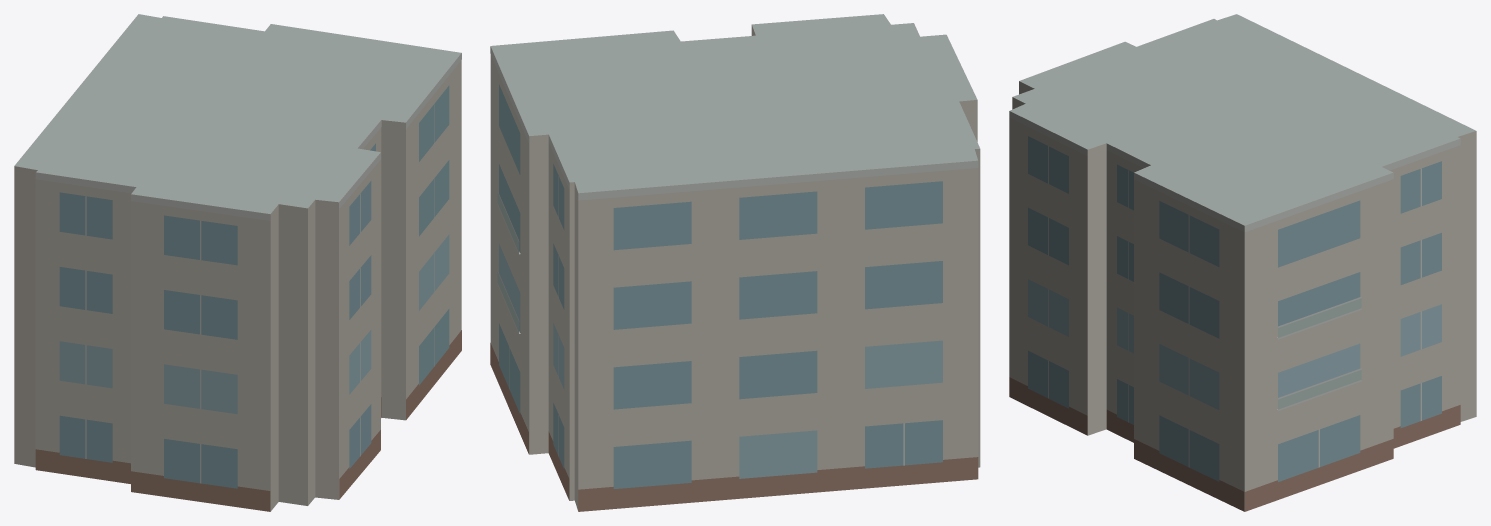
Rendered from survey-upis-32626342.glb.
3 renders of one model, left to right at view 1: azimuth 30°, elevation 25°; view 2: azimuth 150°, elevation 25°; view 3: azimuth 270°, elevation 25°, orthographic. The views are drawn at different scales.
Visible parts, largest first — view 1: survey-upis-32626342.tmp; view 2: survey-upis-32626342.tmp; view 3: survey-upis-32626342.tmp.
Part boxes in pixels (bbox=[...]): survey-upis-32626342.tmp: bbox=[14, 14, 461, 511]; survey-upis-32626342.tmp: bbox=[490, 14, 980, 511]; survey-upis-32626342.tmp: bbox=[1009, 14, 1476, 511].
Size of the model in its own units: 16.84 by 10.6 by 15.69.
